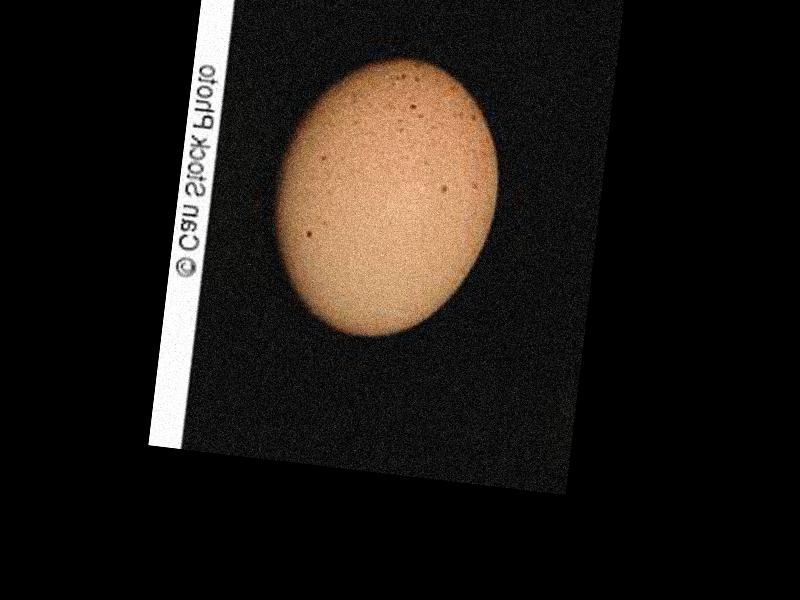Eggs: (258, 46, 510, 350)
